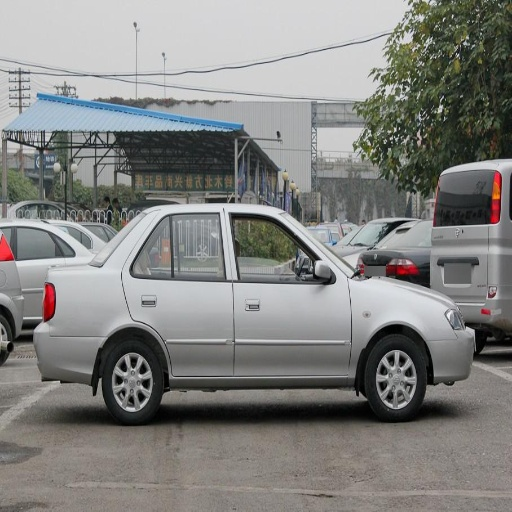back_bumper: (45, 337, 99, 377)
back_right_door: (125, 209, 233, 376)
front_right_door: (228, 209, 351, 375)
